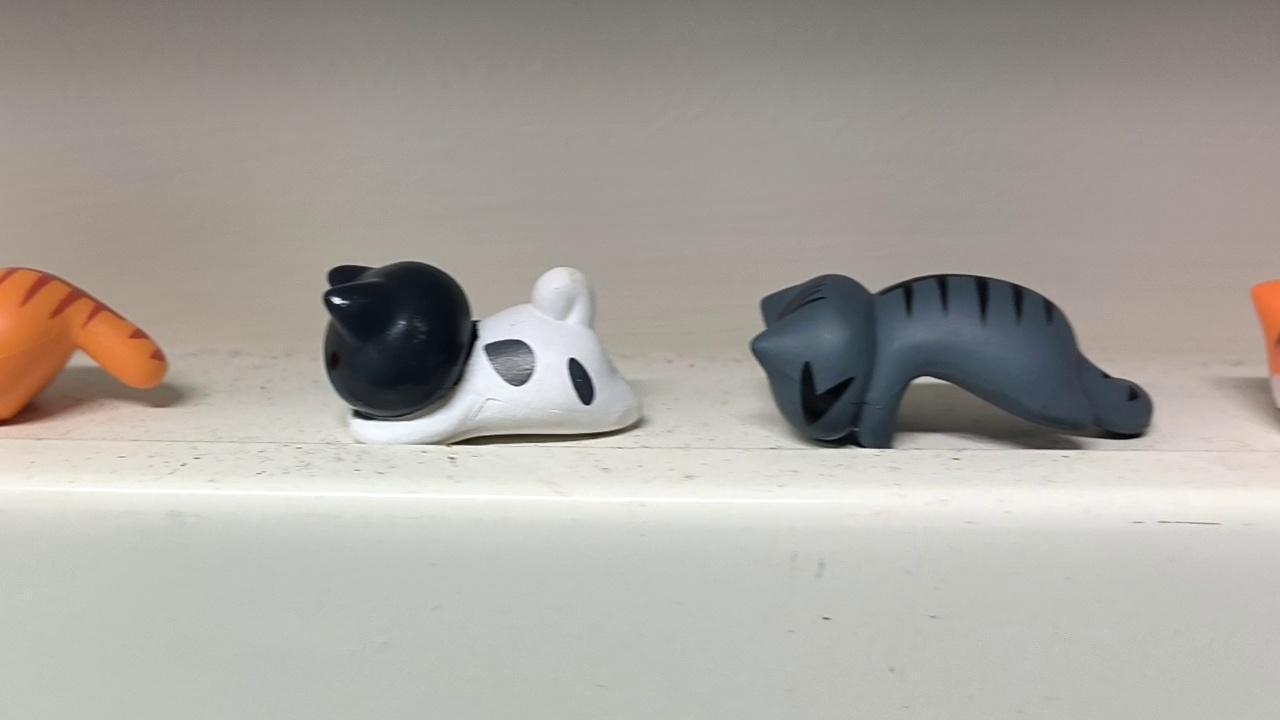pet: (745, 253, 1161, 456), (315, 244, 649, 456)
